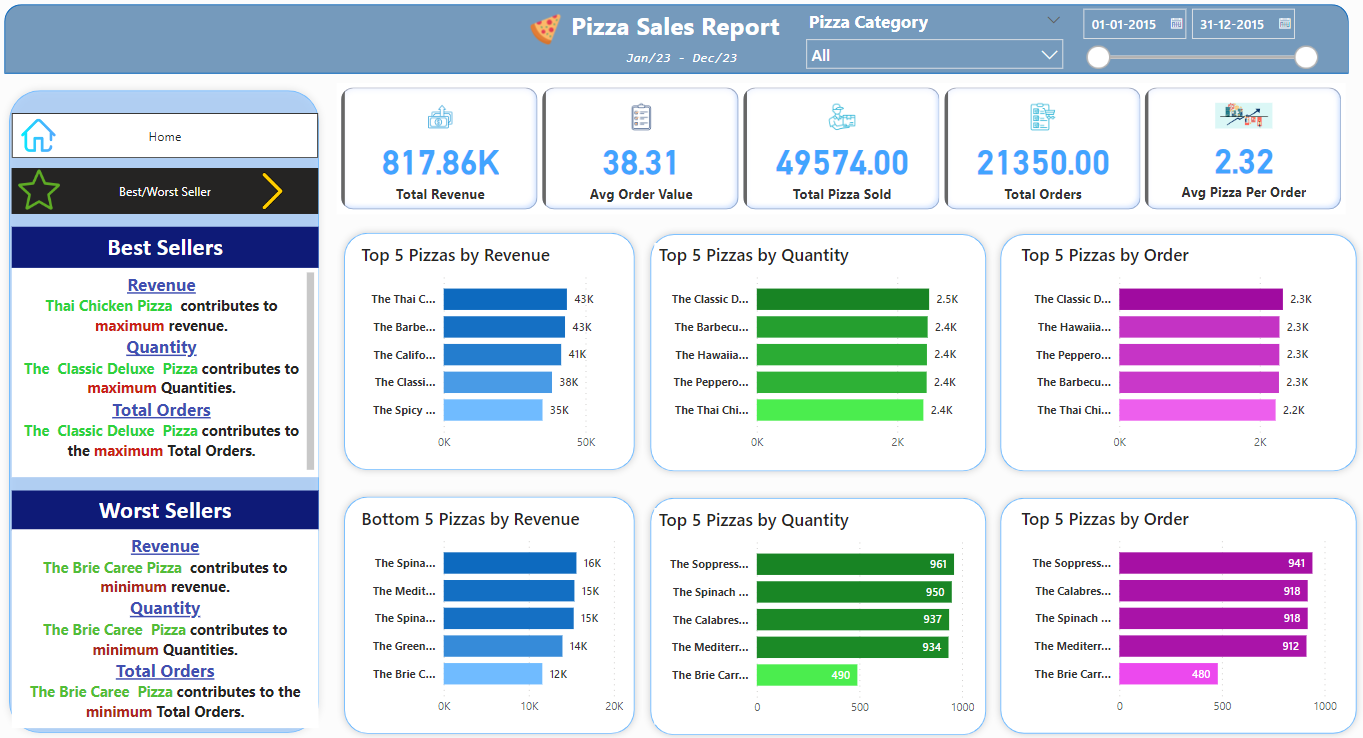

The page's visual inventory and layout, read from the dashboard file:
{"tool":"powerbi","page":{"name":"Best/Worst Seller","canvas":[1500,820],"ordinal":1},"visuals":[{"type":"shape","box":[14.9,98.5,353.7,716.4],"z":0},{"type":"cardVisual","fields":{"Data":["pizza_sales.Total Revenue","pizza_sales.Average Order Value","pizza_sales.Total Pizza Sold","pizza_sales.Total Orders","pizza_sales.Average Pizza Per Order"]},"box":[380.6,98.5,1100,143.3],"z":1000},{"type":"shape","box":[17.1,12.9,1465.7,75.7],"z":2000},{"type":"textbox","box":[620,12.9,258.6,48.6],"z":3000},{"type":"textbox","box":[680.8,55.8,149.8,32.7],"z":4000},{"type":"image","box":[577.1,17.1,60,44.3],"z":5000},{"type":"shape","box":[380.6,253.7,332.8,274.6],"z":6000},{"type":"textbox","box":[25.4,541.8,334.3,43.3],"z":7000},{"type":"textbox","box":[25.4,300,334.3,228.4],"z":8000},{"type":"textbox","box":[25.4,255.2,334.3,44.8],"z":9000},{"type":"textbox","box":[25.4,585.1,334.3,216.4],"z":10000},{"type":"slicer","fields":{"Values":["pizza_sales.pizza_category"]},"box":[882.1,13.4,300,76.1],"z":11000},{"type":"slicer","fields":{"Values":["pizza_sales.order_date"]},"box":[1182.1,7.5,276.1,85.1],"z":12000},{"type":"shape","box":[713.4,255.2,382.1,274.6],"z":13000},{"type":"shape","box":[1095.5,255.2,404.5,274.6],"z":14000},{"type":"shape","box":[380.6,540.3,332.8,274.6],"z":15000},{"type":"shape","box":[713.4,541.8,382.1,274.6],"z":16000},{"type":"shape","box":[1095.5,541.8,404.5,273.1],"z":17000},{"type":"barChart","title":"Top 5 Pizzas by Revenue","fields":{"Category":["pizza_sales.pizza_name"],"Y":["pizza_sales.Total Revenue"]},"box":[401.5,273.1,295.5,235.8],"z":18000},{"type":"barChart","title":"Bottom 5 Pizzas by Revenue","fields":{"Category":["pizza_sales.pizza_name"],"Y":["pizza_sales.Total Revenue"]},"box":[401.5,559.7,295.5,235.8],"z":19000},{"type":"barChart","title":"Top 5 Pizzas by Quantity","fields":{"Category":["pizza_sales.pizza_name"],"Y":["pizza_sales.Total Pizza Sold"]},"box":[726.9,273.1,353.7,235.8],"z":20000},{"type":"barChart","title":"Top 5 Pizzas by Quantity","fields":{"Category":["pizza_sales.pizza_name"],"Y":["pizza_sales.Total Pizza Sold"]},"box":[726.9,561.2,353.7,235.8],"z":21000},{"type":"barChart","title":"Top 5 Pizzas by Order","fields":{"Category":["pizza_sales.pizza_name"],"Y":["pizza_sales.Total Orders"]},"box":[1120.9,273.1,353.7,235.8],"z":22000},{"type":"barChart","title":"Top 5 Pizzas by Order","fields":{"Category":["pizza_sales.pizza_name"],"Y":["pizza_sales.Total Orders"]},"box":[1120.9,559.7,353.7,235.8],"z":23000},{"type":"pageNavigator","box":[25.4,191,334.3,50.7],"z":24000},{"type":"pageNavigator","box":[25.4,131.3,334.3,49.3],"z":25000},{"type":"image","box":[279.1,191,61.2,50.7],"z":26000},{"type":"image","box":[31.3,131.3,47.8,49.3],"z":27000},{"type":"image","box":[26.9,186.6,56.7,55.2],"z":28000}]}

Visuals, with their boxes in screenshot pixels (x1, y1, x2, y2), scaled from the page's 1500x820 canvas onto the 1363x738 screenshot:
shape: {"x1": 14, "y1": 89, "x2": 335, "y2": 733}
cardVisual - pizza_sales.Total Revenue x pizza_sales.Average Order Value: {"x1": 346, "y1": 89, "x2": 1345, "y2": 218}
shape: {"x1": 16, "y1": 12, "x2": 1347, "y2": 80}
textbox: {"x1": 563, "y1": 12, "x2": 798, "y2": 55}
textbox: {"x1": 619, "y1": 50, "x2": 755, "y2": 80}
image: {"x1": 524, "y1": 15, "x2": 579, "y2": 55}
shape: {"x1": 346, "y1": 228, "x2": 648, "y2": 475}
textbox: {"x1": 23, "y1": 488, "x2": 327, "y2": 527}
textbox: {"x1": 23, "y1": 270, "x2": 327, "y2": 476}
textbox: {"x1": 23, "y1": 230, "x2": 327, "y2": 270}
textbox: {"x1": 23, "y1": 527, "x2": 327, "y2": 721}
slicer - pizza_sales.pizza_category: {"x1": 802, "y1": 12, "x2": 1074, "y2": 81}
slicer - pizza_sales.order_date: {"x1": 1074, "y1": 7, "x2": 1325, "y2": 83}
shape: {"x1": 648, "y1": 230, "x2": 995, "y2": 477}
shape: {"x1": 995, "y1": 230, "x2": 1362, "y2": 477}
shape: {"x1": 346, "y1": 486, "x2": 648, "y2": 733}
shape: {"x1": 648, "y1": 488, "x2": 995, "y2": 735}
shape: {"x1": 995, "y1": 488, "x2": 1362, "y2": 733}
"Top 5 Pizzas by Revenue" barChart: {"x1": 365, "y1": 246, "x2": 633, "y2": 458}
"Bottom 5 Pizzas by Revenue" barChart: {"x1": 365, "y1": 504, "x2": 633, "y2": 716}
"Top 5 Pizzas by Quantity" barChart: {"x1": 661, "y1": 246, "x2": 982, "y2": 458}
"Top 5 Pizzas by Quantity" barChart: {"x1": 661, "y1": 505, "x2": 982, "y2": 717}
"Top 5 Pizzas by Order" barChart: {"x1": 1019, "y1": 246, "x2": 1340, "y2": 458}
"Top 5 Pizzas by Order" barChart: {"x1": 1019, "y1": 504, "x2": 1340, "y2": 716}
pageNavigator: {"x1": 23, "y1": 172, "x2": 327, "y2": 218}
pageNavigator: {"x1": 23, "y1": 118, "x2": 327, "y2": 163}
image: {"x1": 254, "y1": 172, "x2": 309, "y2": 218}
image: {"x1": 28, "y1": 118, "x2": 72, "y2": 163}
image: {"x1": 24, "y1": 168, "x2": 76, "y2": 218}
